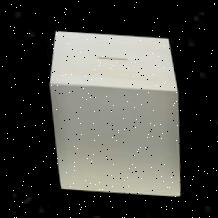cube: (46, 27, 185, 203)
